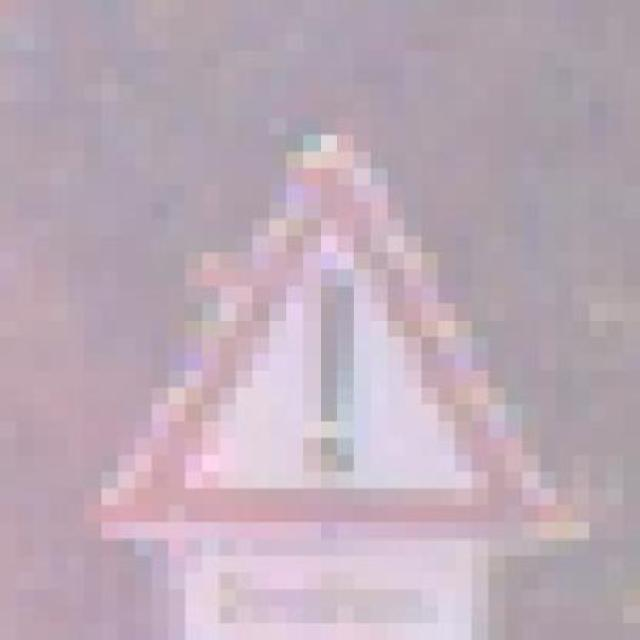Attention Please-: (33, 118, 573, 573)
